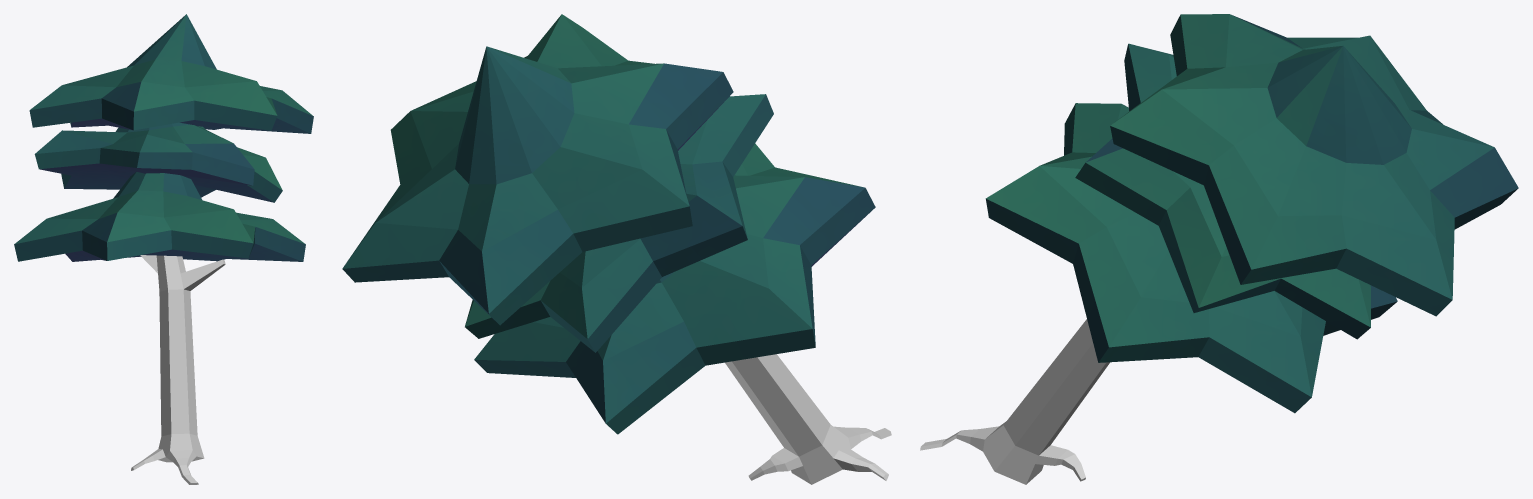
Rendered from Tree_FallingFinal.fbx.
The picture shows the model from 3 angles, left to right: view 1: azimuth 30°, elevation 25°; view 2: azimuth 150°, elevation 25°; view 3: azimuth 270°, elevation 25°; orthographic projection. The views are drawn at different scales.
Visible parts, largest first — view 1: BrokenTreeLeaves, BrokenTreeTrunk; view 2: BrokenTreeLeaves, BrokenTreeTrunk; view 3: BrokenTreeLeaves, BrokenTreeTrunk.
Part boxes in pixels (<box>): BrokenTreeLeaves: <box>14,14,313,261</box>; BrokenTreeTrunk: <box>131,255,225,484</box>; BrokenTreeLeaves: <box>342,14,875,434</box>; BrokenTreeTrunk: <box>725,354,891,484</box>; BrokenTreeLeaves: <box>985,14,1518,413</box>; BrokenTreeTrunk: <box>920,319,1109,484</box>.
Size of the model in its own units: 313 by 350 by 370.
